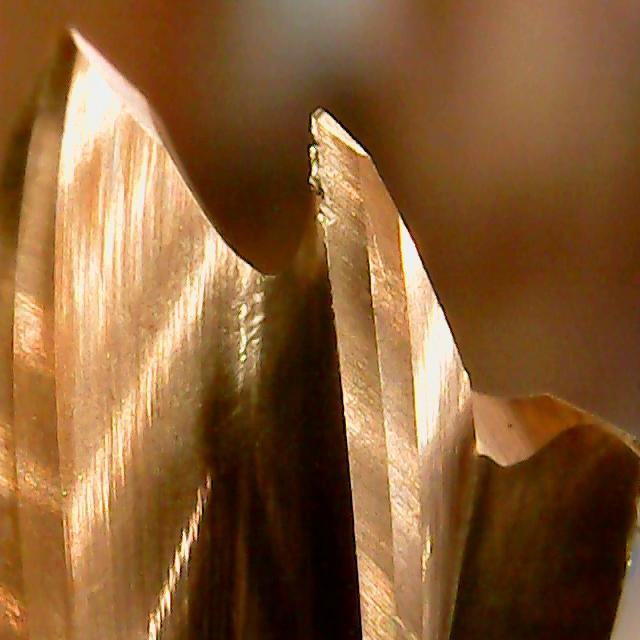Tool-wear-class-1: (302, 101, 406, 408)
